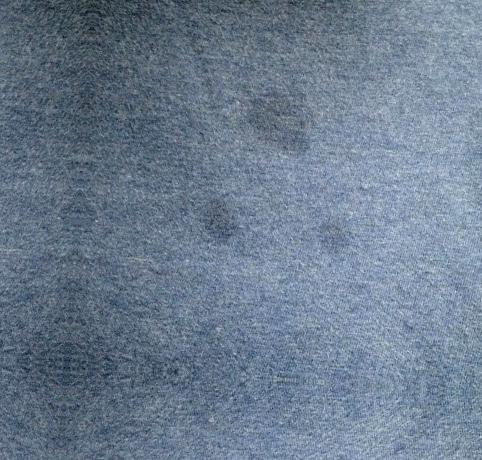stain: (239, 86, 325, 162), (311, 216, 367, 263), (198, 191, 240, 247)
